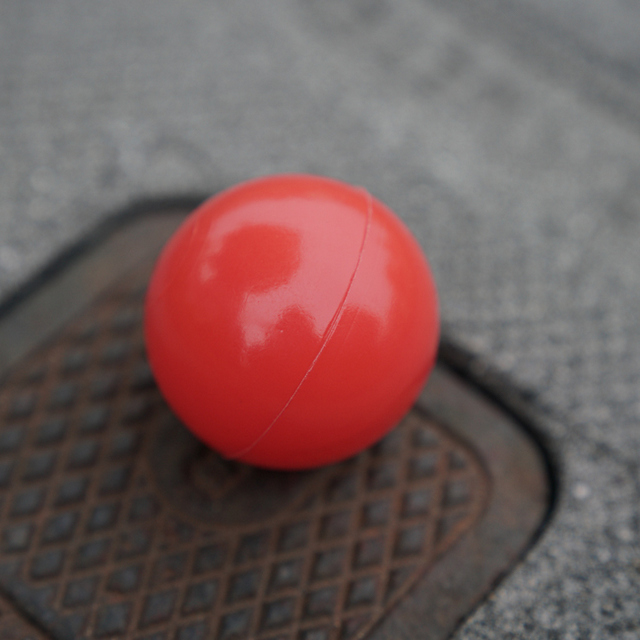Ball: (142, 175, 435, 460)
